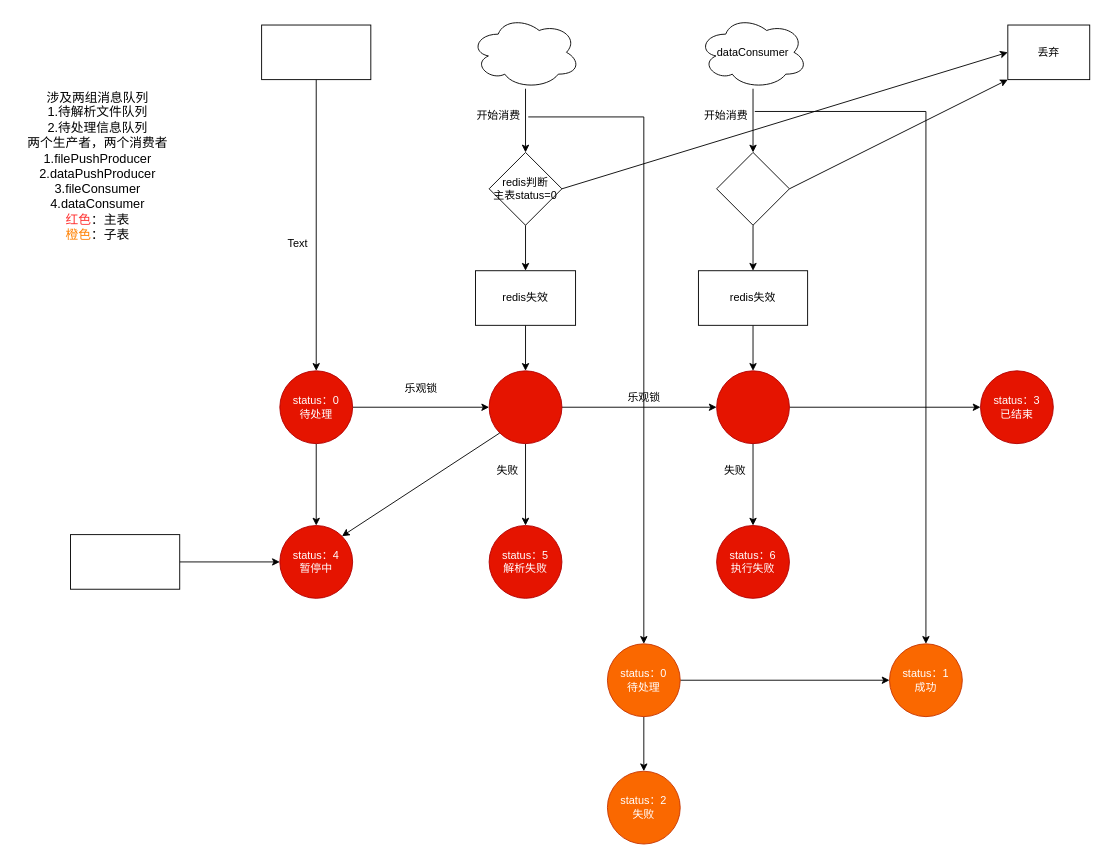
Image size: 1106x860. Some labels were removed from this diagram. Here are the shapes that lost their labels. From the top down, the centre of each, then its label:
the point at 316,52: 文件上传接口，入主表持久化
the point at 525,52: fileConsumer
the point at 752,188: redis判断 子表status=0
the point at 525,407: status：1 解析中
the point at 752,407: status：2 执行中
the point at 125,561: 暂停处理接口
